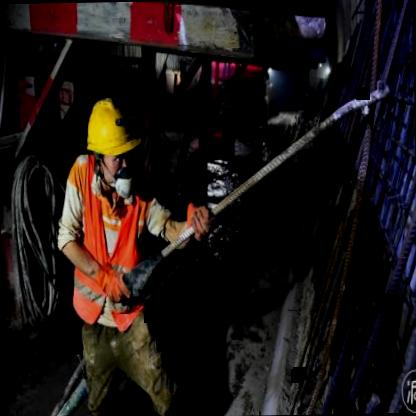helmet: (84, 93, 135, 191)
